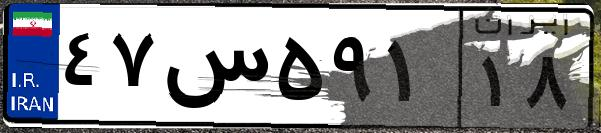1: (385, 28, 445, 110), (475, 38, 525, 113)
4: (57, 26, 110, 100)
5: (270, 28, 330, 110)
7: (110, 28, 158, 98)
8: (525, 38, 570, 115)
9: (330, 28, 385, 110)
س: (158, 20, 270, 120)
